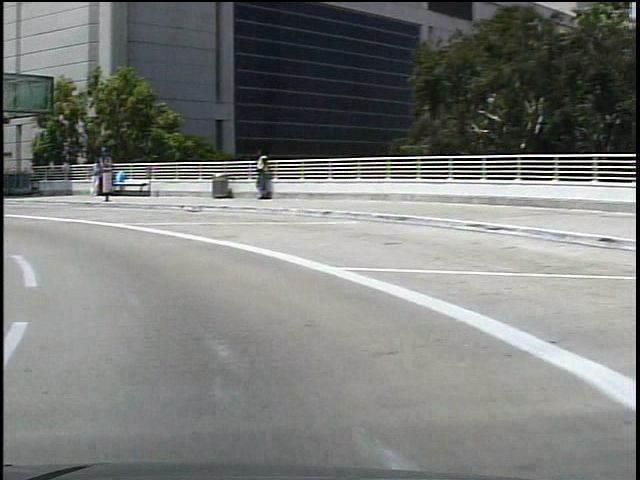person: (246, 145, 267, 201)
